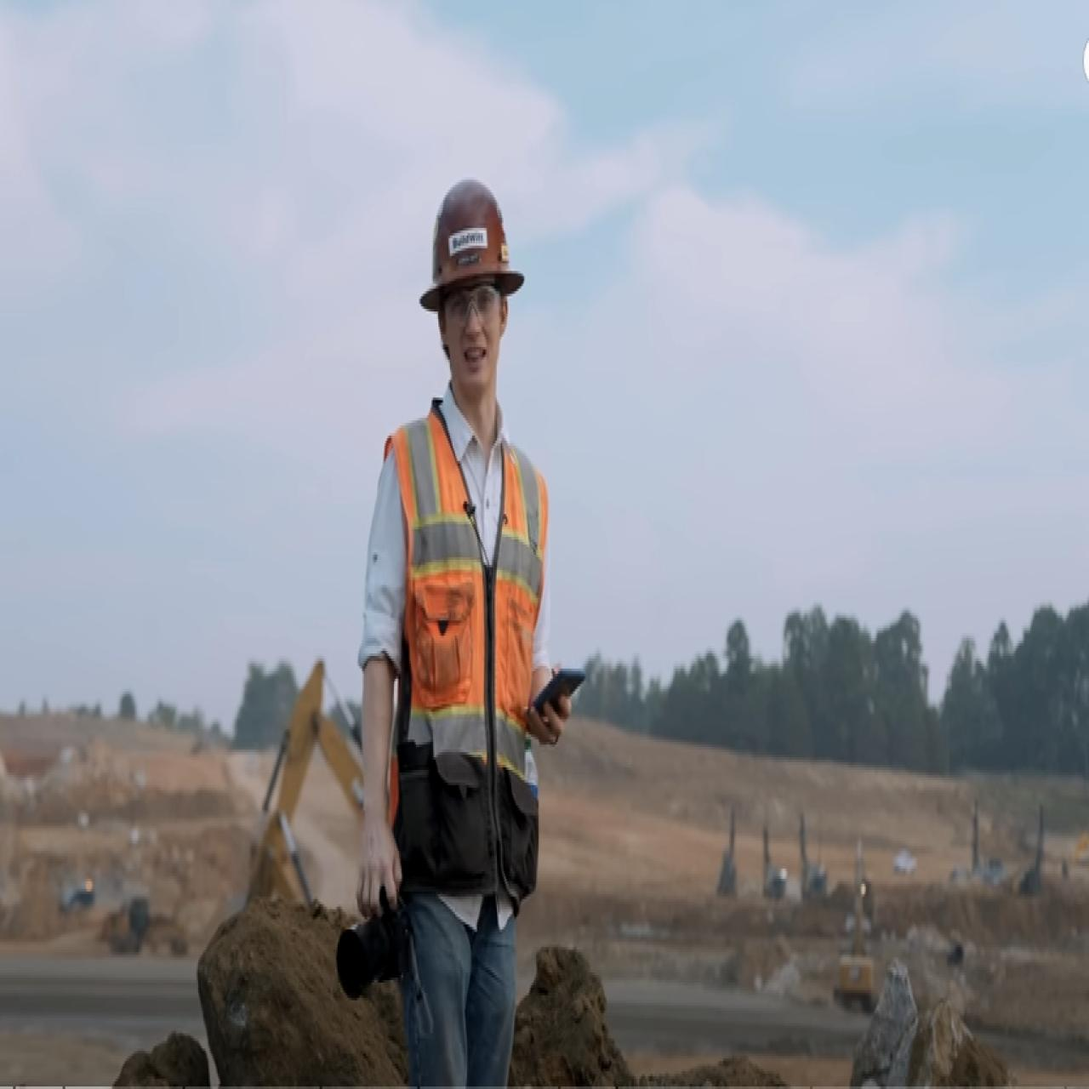Person: (357, 164, 576, 1089)
Safety_Vest: (378, 407, 550, 910)
